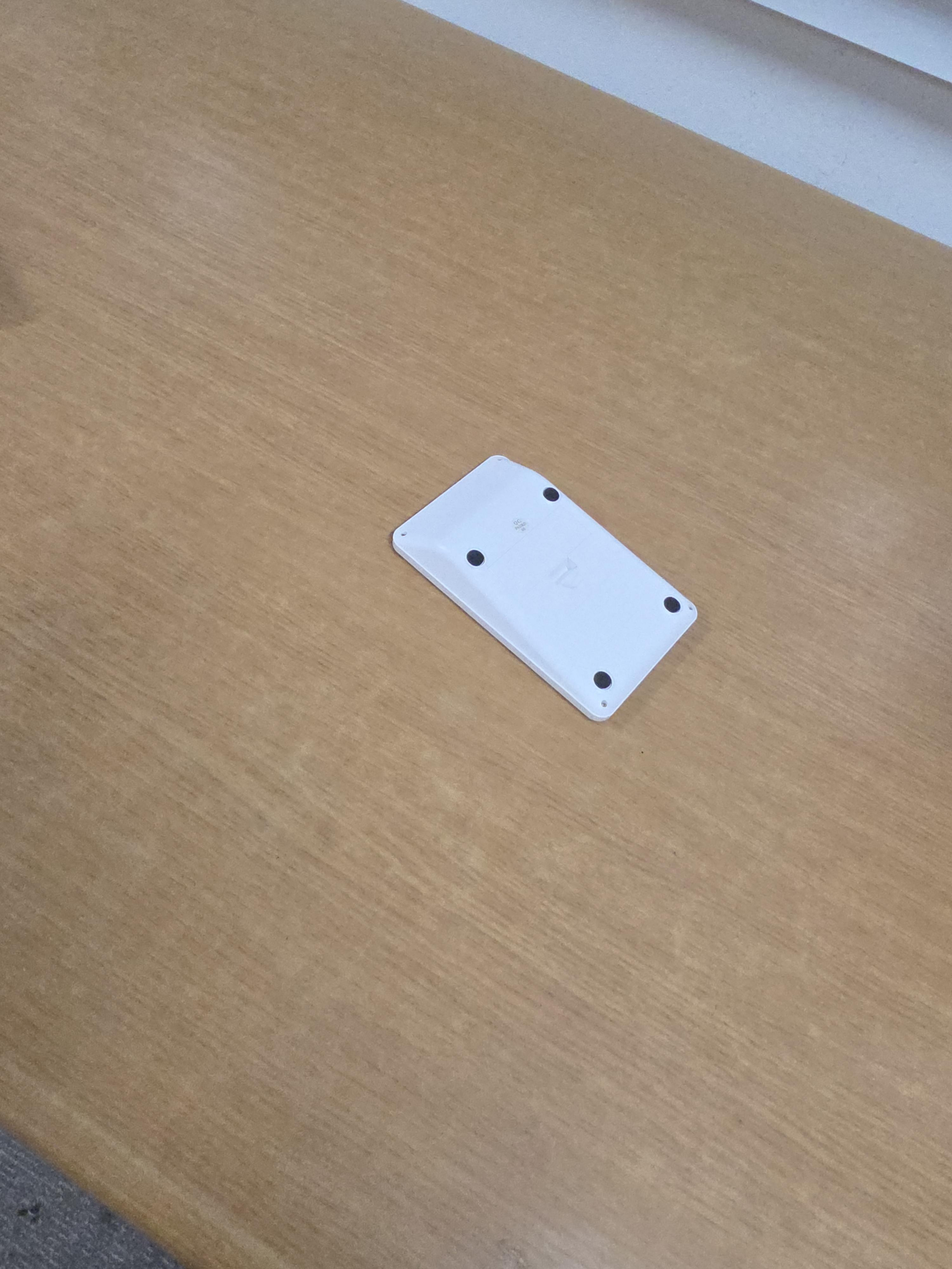calculator: (390, 454, 699, 722)
